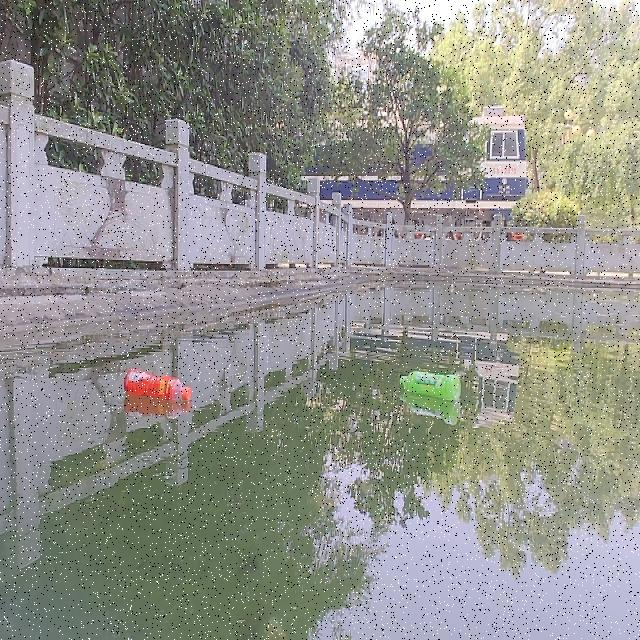bottle: (122, 368, 192, 404), (399, 368, 461, 400)
